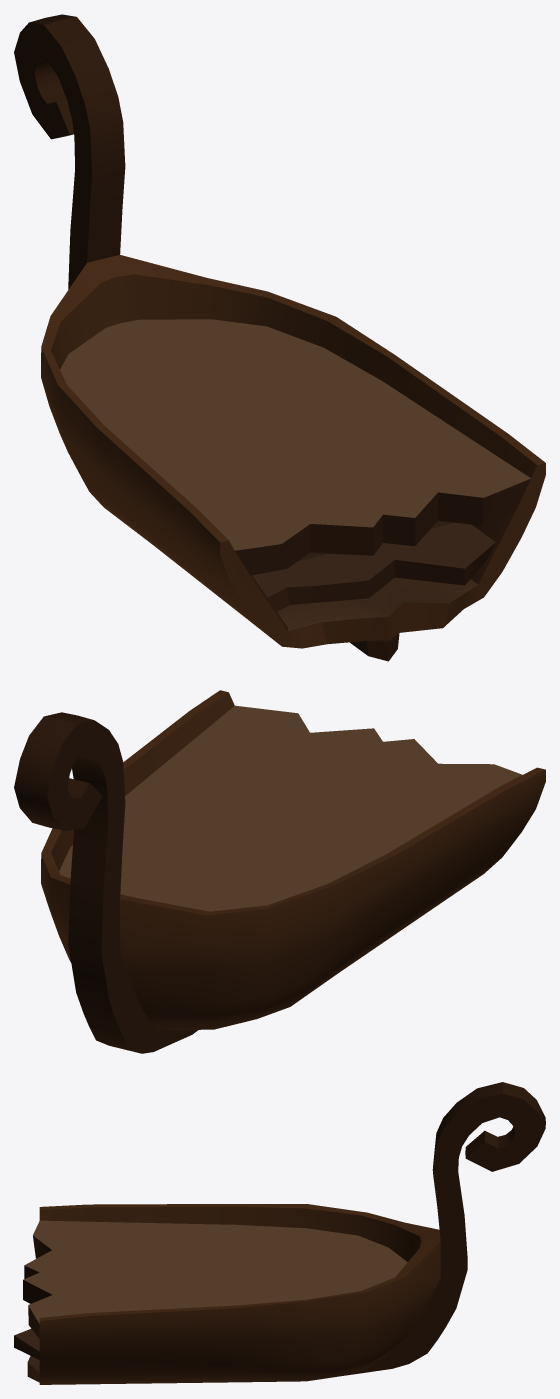
Rendered from Ship_Broken_Back.FBX.
The picture shows the model from 3 angles, top to bottom: view 1: azimuth 30°, elevation 25°; view 2: azimuth 150°, elevation 25°; view 3: azimuth 270°, elevation 25°; orthographic projection. The views are drawn at different scales.
Parts seen in each view (by area): view 1: Object068; view 2: Object068; view 3: Object068.
Part boxes in pixels (<box>): Object068: <box>14,14,545,661</box>; Object068: <box>14,690,545,1053</box>; Object068: <box>14,1082,545,1384</box>.
Size of the model in its own units: 921 by 1083 by 1815.
